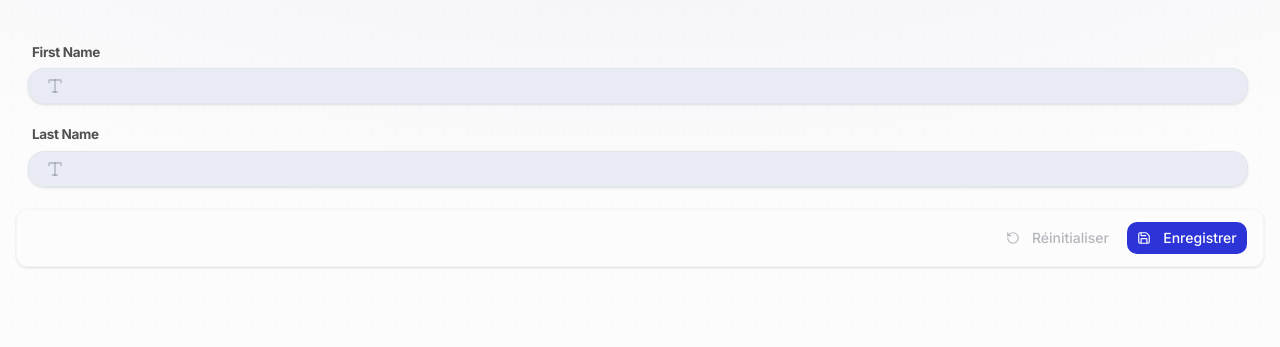
Test case: DynamicForm › renders form-level submit errors from __all__
The image size is (1280, 347).
Type "Alice" into the field below "First Name" at (638,86), box [28, 68, 1248, 104]
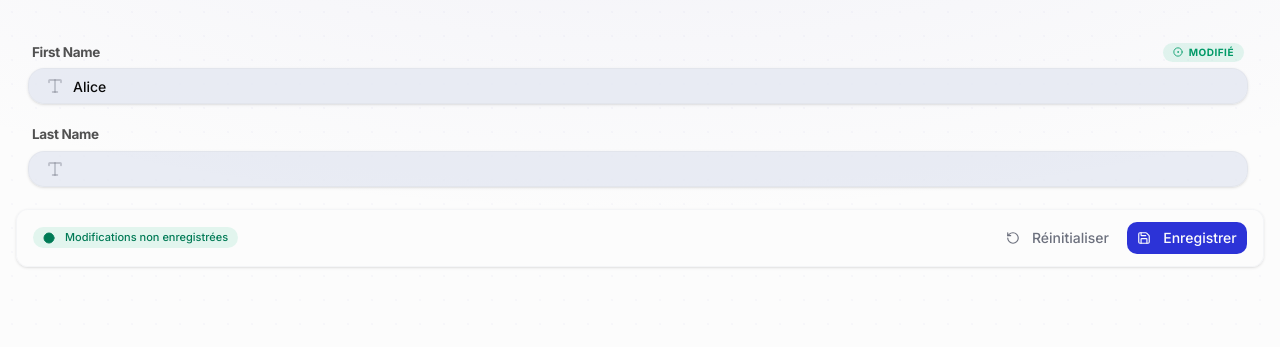
Click the button "Enregistrer" at (1187,238), box [1127, 222, 1247, 254]
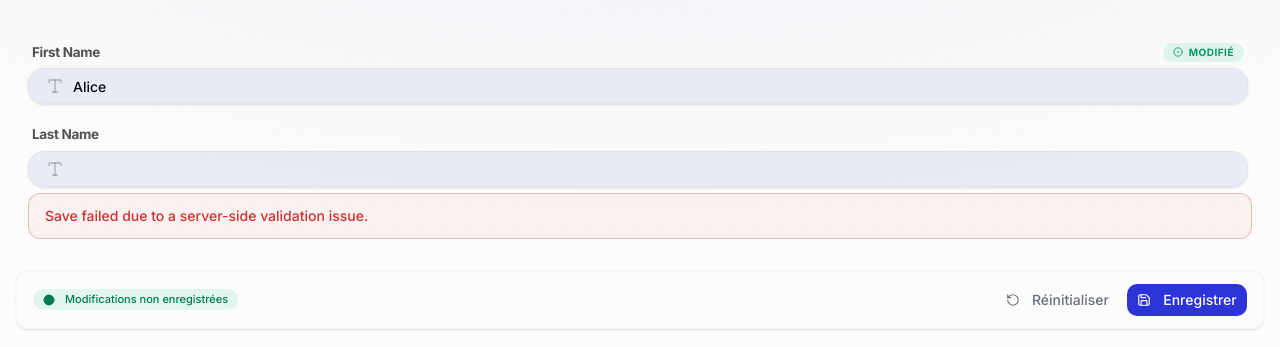
Result: the text "Save failed due to a server-side validation issue." is shown at [45, 206, 368, 224]
Result: the message "Save failed due to a server-side validation issue." is shown at [28, 192, 1252, 238]
